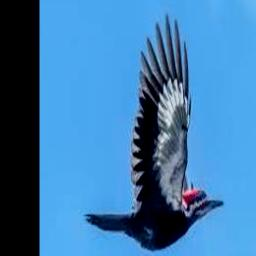Woodpecker: (84, 13, 224, 250)
